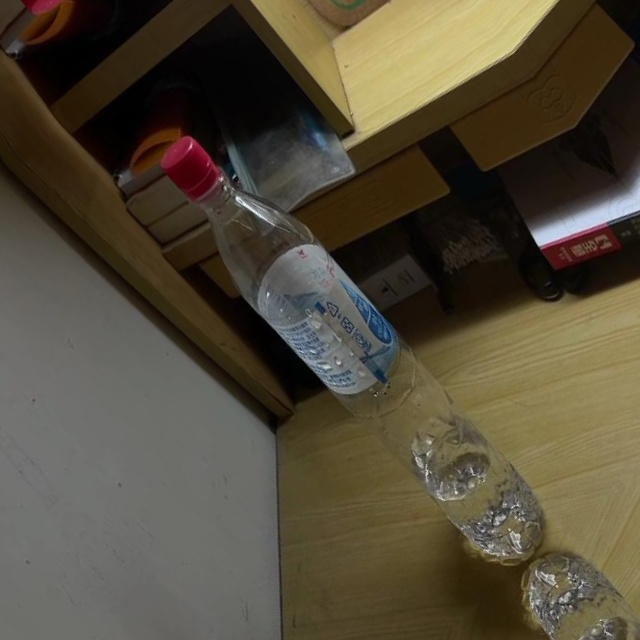Water: (140, 107, 567, 590)
